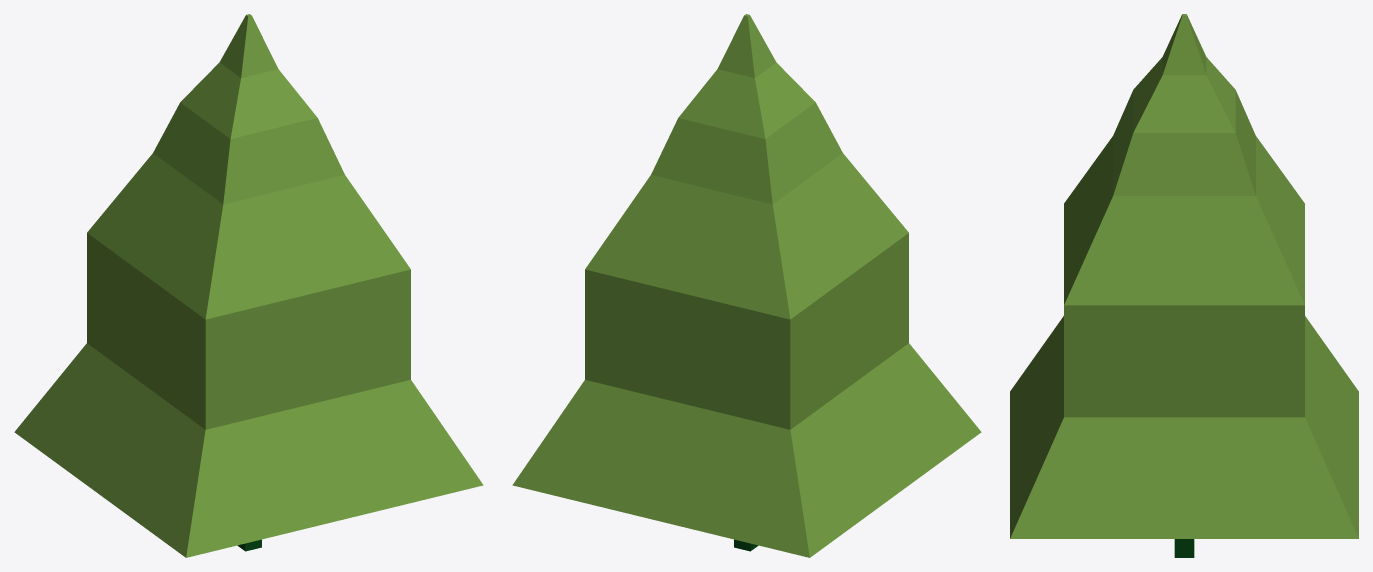
Rendered from tree.gltf.
The picture shows the model from 3 angles, left to right: view 1: azimuth 30°, elevation 25°; view 2: azimuth 150°, elevation 25°; view 3: azimuth 270°, elevation 25°; orthographic projection.
Parts seen in each view (by area): view 1: tree; view 2: tree; view 3: tree.
Part boxes in pixels (box(x1,y1,x2,y2)): tree: box(14, 14, 483, 557); tree: box(512, 14, 981, 557); tree: box(1010, 14, 1358, 557).
Size of the model in its own units: 14.29 by 24.35 by 14.29.
Materials: 1 (1 with a texture image).
